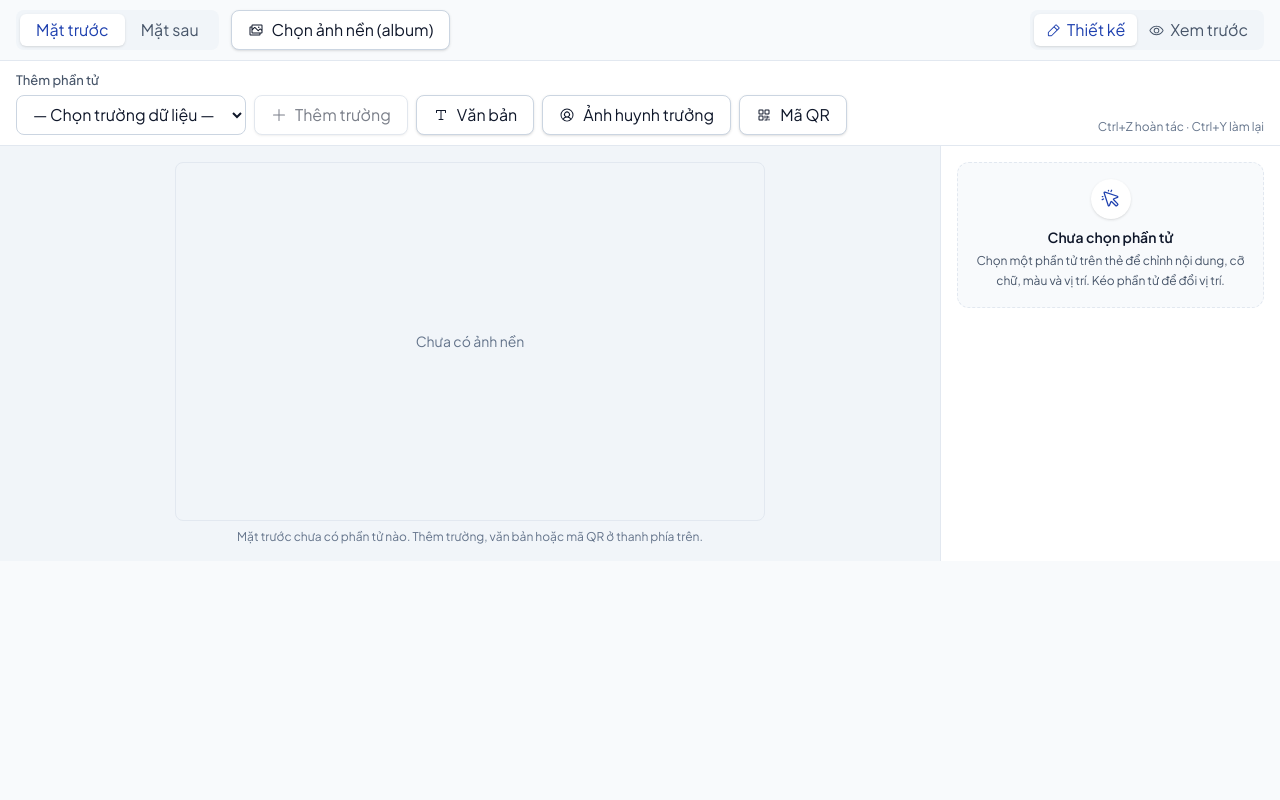
Test case: BadgeEditor › uses a separate album for each side of the card
Click the button "Chọn ảnh nền (album)" at (340, 30), box left=231, top=10, right=450, bottom=50
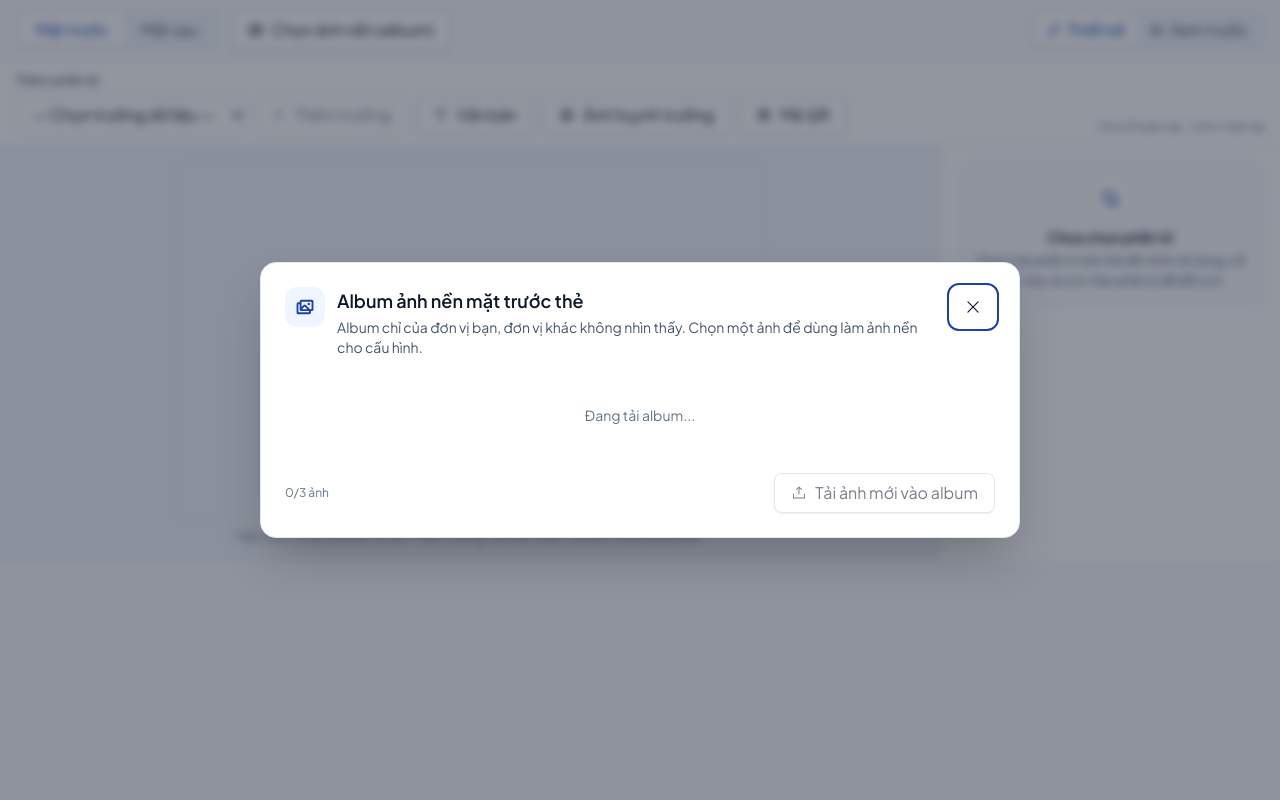
Expected: the heading "Album ảnh nền mặt trước thẻ" is shown, left=337, top=289, right=584, bottom=312
Click the button named "Đóng" at (973, 307), box left=951, top=287, right=995, bottom=327
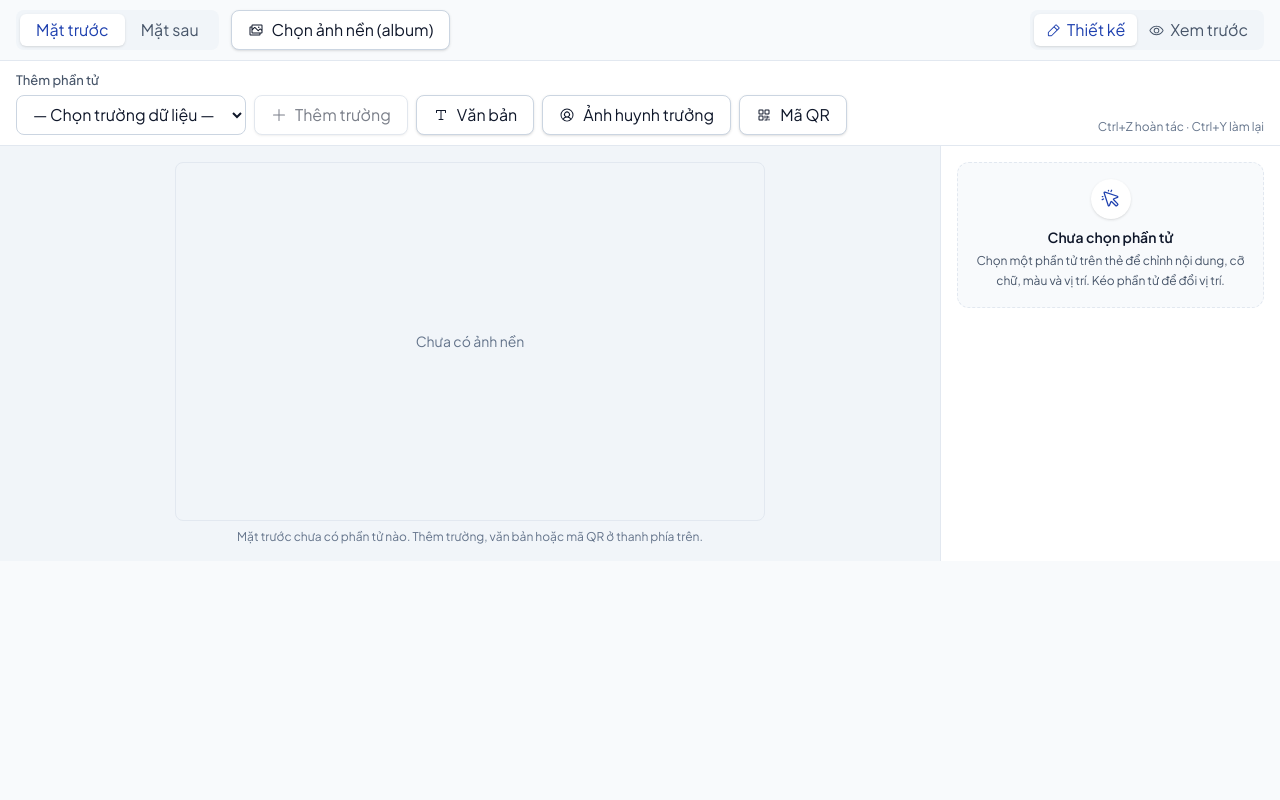
Click the tab "Mặt sau" at (170, 30), box left=125, top=14, right=215, bottom=46
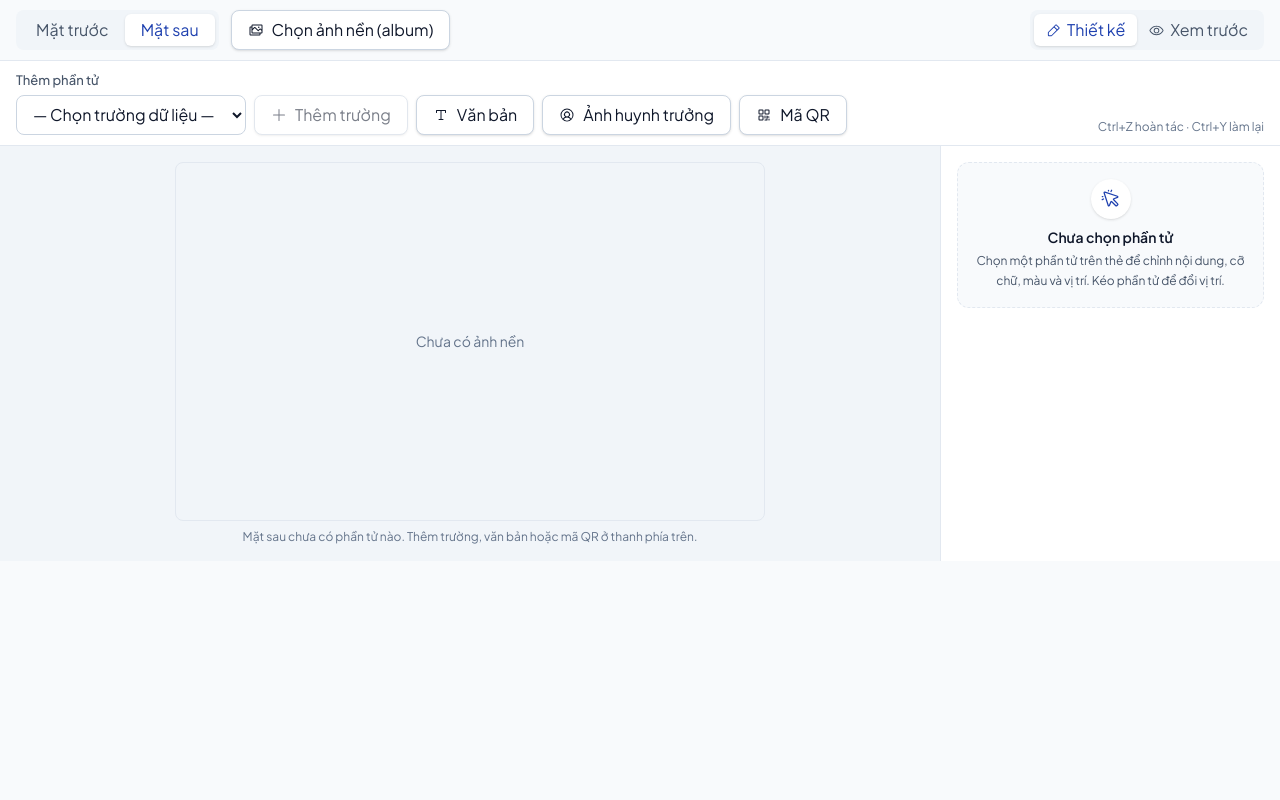
Click the button "Chọn ảnh nền (album)" at (340, 30), box left=231, top=10, right=450, bottom=50
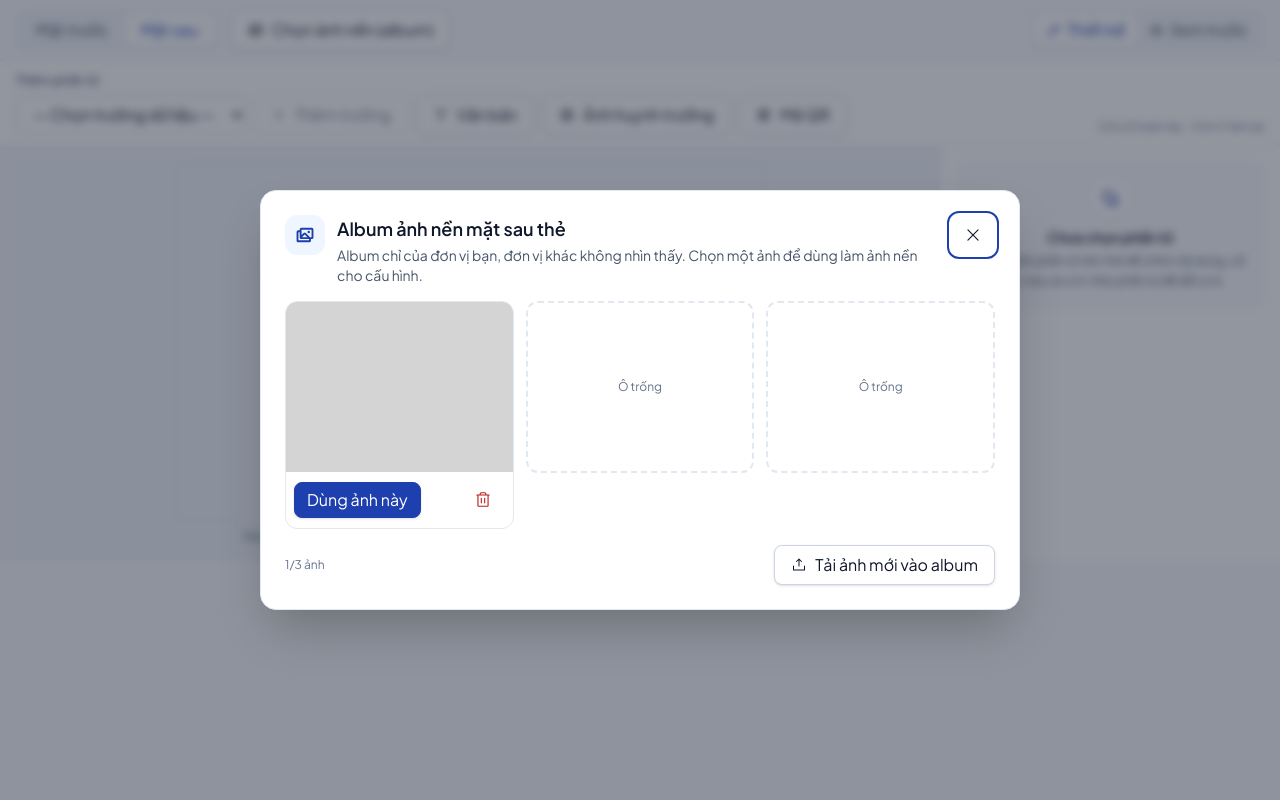
Expected: the heading "Album ảnh nền mặt sau thẻ" is shown, left=337, top=217, right=566, bottom=240
